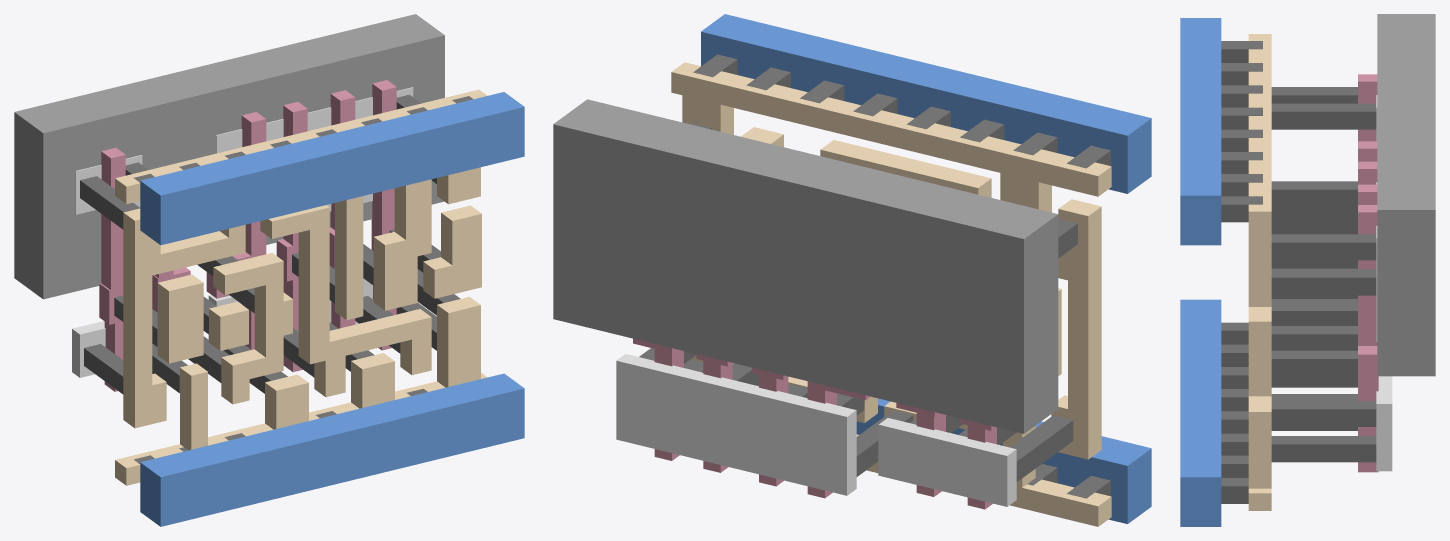
Rendered from sky130_fd_sc_hd__nor4bb_1.gds.gltf.
The picture shows the model from 3 angles, left to right: view 1: azimuth 30°, elevation 25°; view 2: azimuth 150°, elevation 25°; view 3: azimuth 270°, elevation 25°; orthographic projection. The views are drawn at different scales.
Visible parts, largest first — view 1: sky130_fd_sc_hd__nor4bb_1_li1, sky130_fd_sc_hd__nor4bb_1_met1, sky130_fd_sc_hd__nor4bb_1_nwell, sky130_fd_sc_hd__nor4bb_1_poly, sky130_fd_sc_hd__nor4bb_1_licon, sky130_fd_sc_hd__nor4bb_1_diff, sky130_fd_sc_hd__nor4bb_1_mcon; view 2: sky130_fd_sc_hd__nor4bb_1_nwell, sky130_fd_sc_hd__nor4bb_1_li1, sky130_fd_sc_hd__nor4bb_1_diff, sky130_fd_sc_hd__nor4bb_1_met1, sky130_fd_sc_hd__nor4bb_1_mcon, sky130_fd_sc_hd__nor4bb_1_licon, sky130_fd_sc_hd__nor4bb_1_poly; view 3: sky130_fd_sc_hd__nor4bb_1_licon, sky130_fd_sc_hd__nor4bb_1_nwell, sky130_fd_sc_hd__nor4bb_1_met1, sky130_fd_sc_hd__nor4bb_1_mcon, sky130_fd_sc_hd__nor4bb_1_li1, sky130_fd_sc_hd__nor4bb_1_poly, sky130_fd_sc_hd__nor4bb_1_diff.
Part boxes in pixels (box(x1,y1,x2,y2)): sky130_fd_sc_hd__nor4bb_1_li1: box(115, 89, 487, 485); sky130_fd_sc_hd__nor4bb_1_met1: box(140, 92, 524, 526); sky130_fd_sc_hd__nor4bb_1_nwell: box(14, 14, 444, 299); sky130_fd_sc_hd__nor4bb_1_poly: box(99, 80, 396, 391); sky130_fd_sc_hd__nor4bb_1_licon: box(80, 94, 460, 394); sky130_fd_sc_hd__nor4bb_1_diff: box(72, 87, 413, 377); sky130_fd_sc_hd__nor4bb_1_mcon: box(134, 96, 472, 463); sky130_fd_sc_hd__nor4bb_1_nwell: box(553, 99, 1058, 433); sky130_fd_sc_hd__nor4bb_1_li1: box(671, 62, 1111, 526); sky130_fd_sc_hd__nor4bb_1_diff: box(616, 354, 1016, 506); sky130_fd_sc_hd__nor4bb_1_met1: box(701, 14, 1151, 523); sky130_fd_sc_hd__nor4bb_1_mcon: box(693, 54, 1110, 498); sky130_fd_sc_hd__nor4bb_1_licon: box(639, 123, 1077, 481); sky130_fd_sc_hd__nor4bb_1_poly: box(633, 338, 996, 509); sky130_fd_sc_hd__nor4bb_1_licon: box(1271, 87, 1376, 462); sky130_fd_sc_hd__nor4bb_1_nwell: box(1377, 14, 1435, 376); sky130_fd_sc_hd__nor4bb_1_met1: box(1180, 18, 1221, 526); sky130_fd_sc_hd__nor4bb_1_mcon: box(1221, 41, 1262, 503); sky130_fd_sc_hd__nor4bb_1_li1: box(1248, 34, 1271, 510); sky130_fd_sc_hd__nor4bb_1_poly: box(1358, 74, 1378, 472); sky130_fd_sc_hd__nor4bb_1_diff: box(1376, 95, 1392, 471).
Size of the model in its own units: 4.06 by 3.2 by 2.24.
